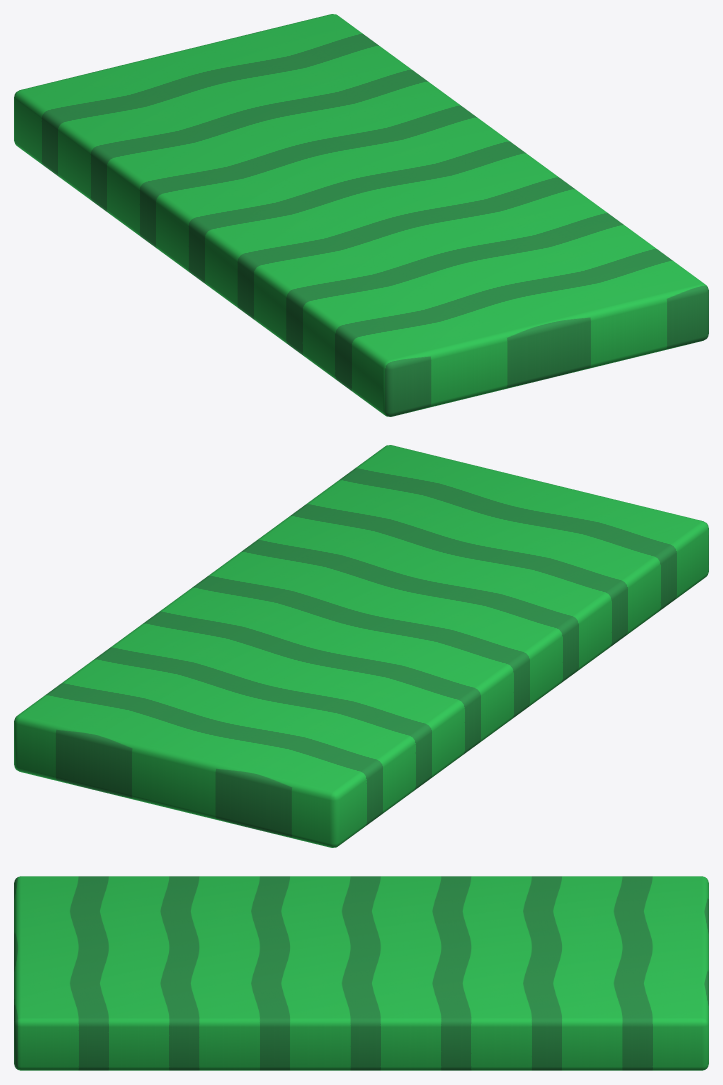
Rendered from Platform_W_1.fbx.
3 views of the same model, one above another, from view 1: azimuth 30°, elevation 25°; view 2: azimuth 150°, elevation 25°; view 3: azimuth 270°, elevation 25° (orthographic). The views are drawn at different scales.
Parts seen in each view (by area): view 1: Platform_W_1; view 2: Platform_W_1; view 3: Platform_W_1.
Boxes of the visible parts, <box> form: Platform_W_1: <box>14,14,708,416</box>; Platform_W_1: <box>14,445,708,847</box>; Platform_W_1: <box>14,876,708,1070</box>.
Bounding box in the file's own units: 16 × 2.66 × 32.
